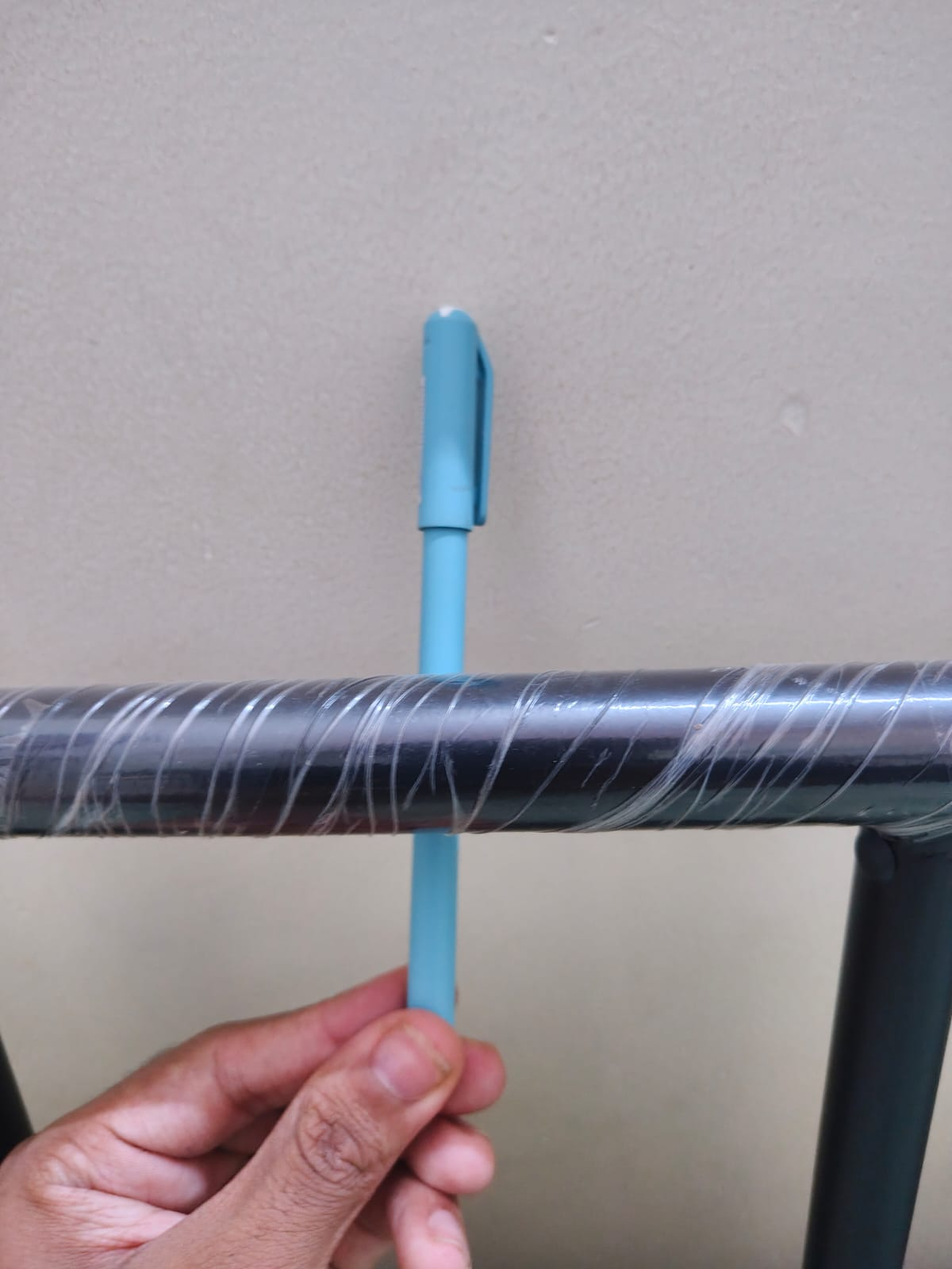pen: (359, 266, 561, 1029)
